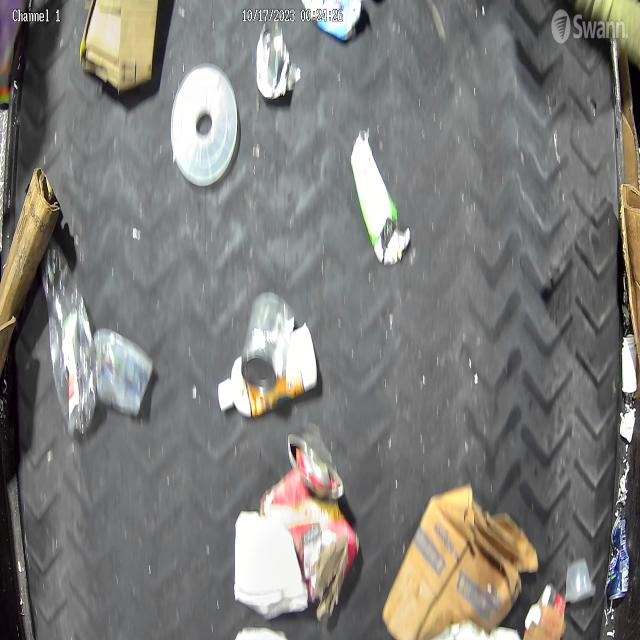can: (241, 290, 293, 390), (287, 432, 341, 498), (606, 512, 630, 600)
plastic_bottle: (41, 243, 100, 441)
